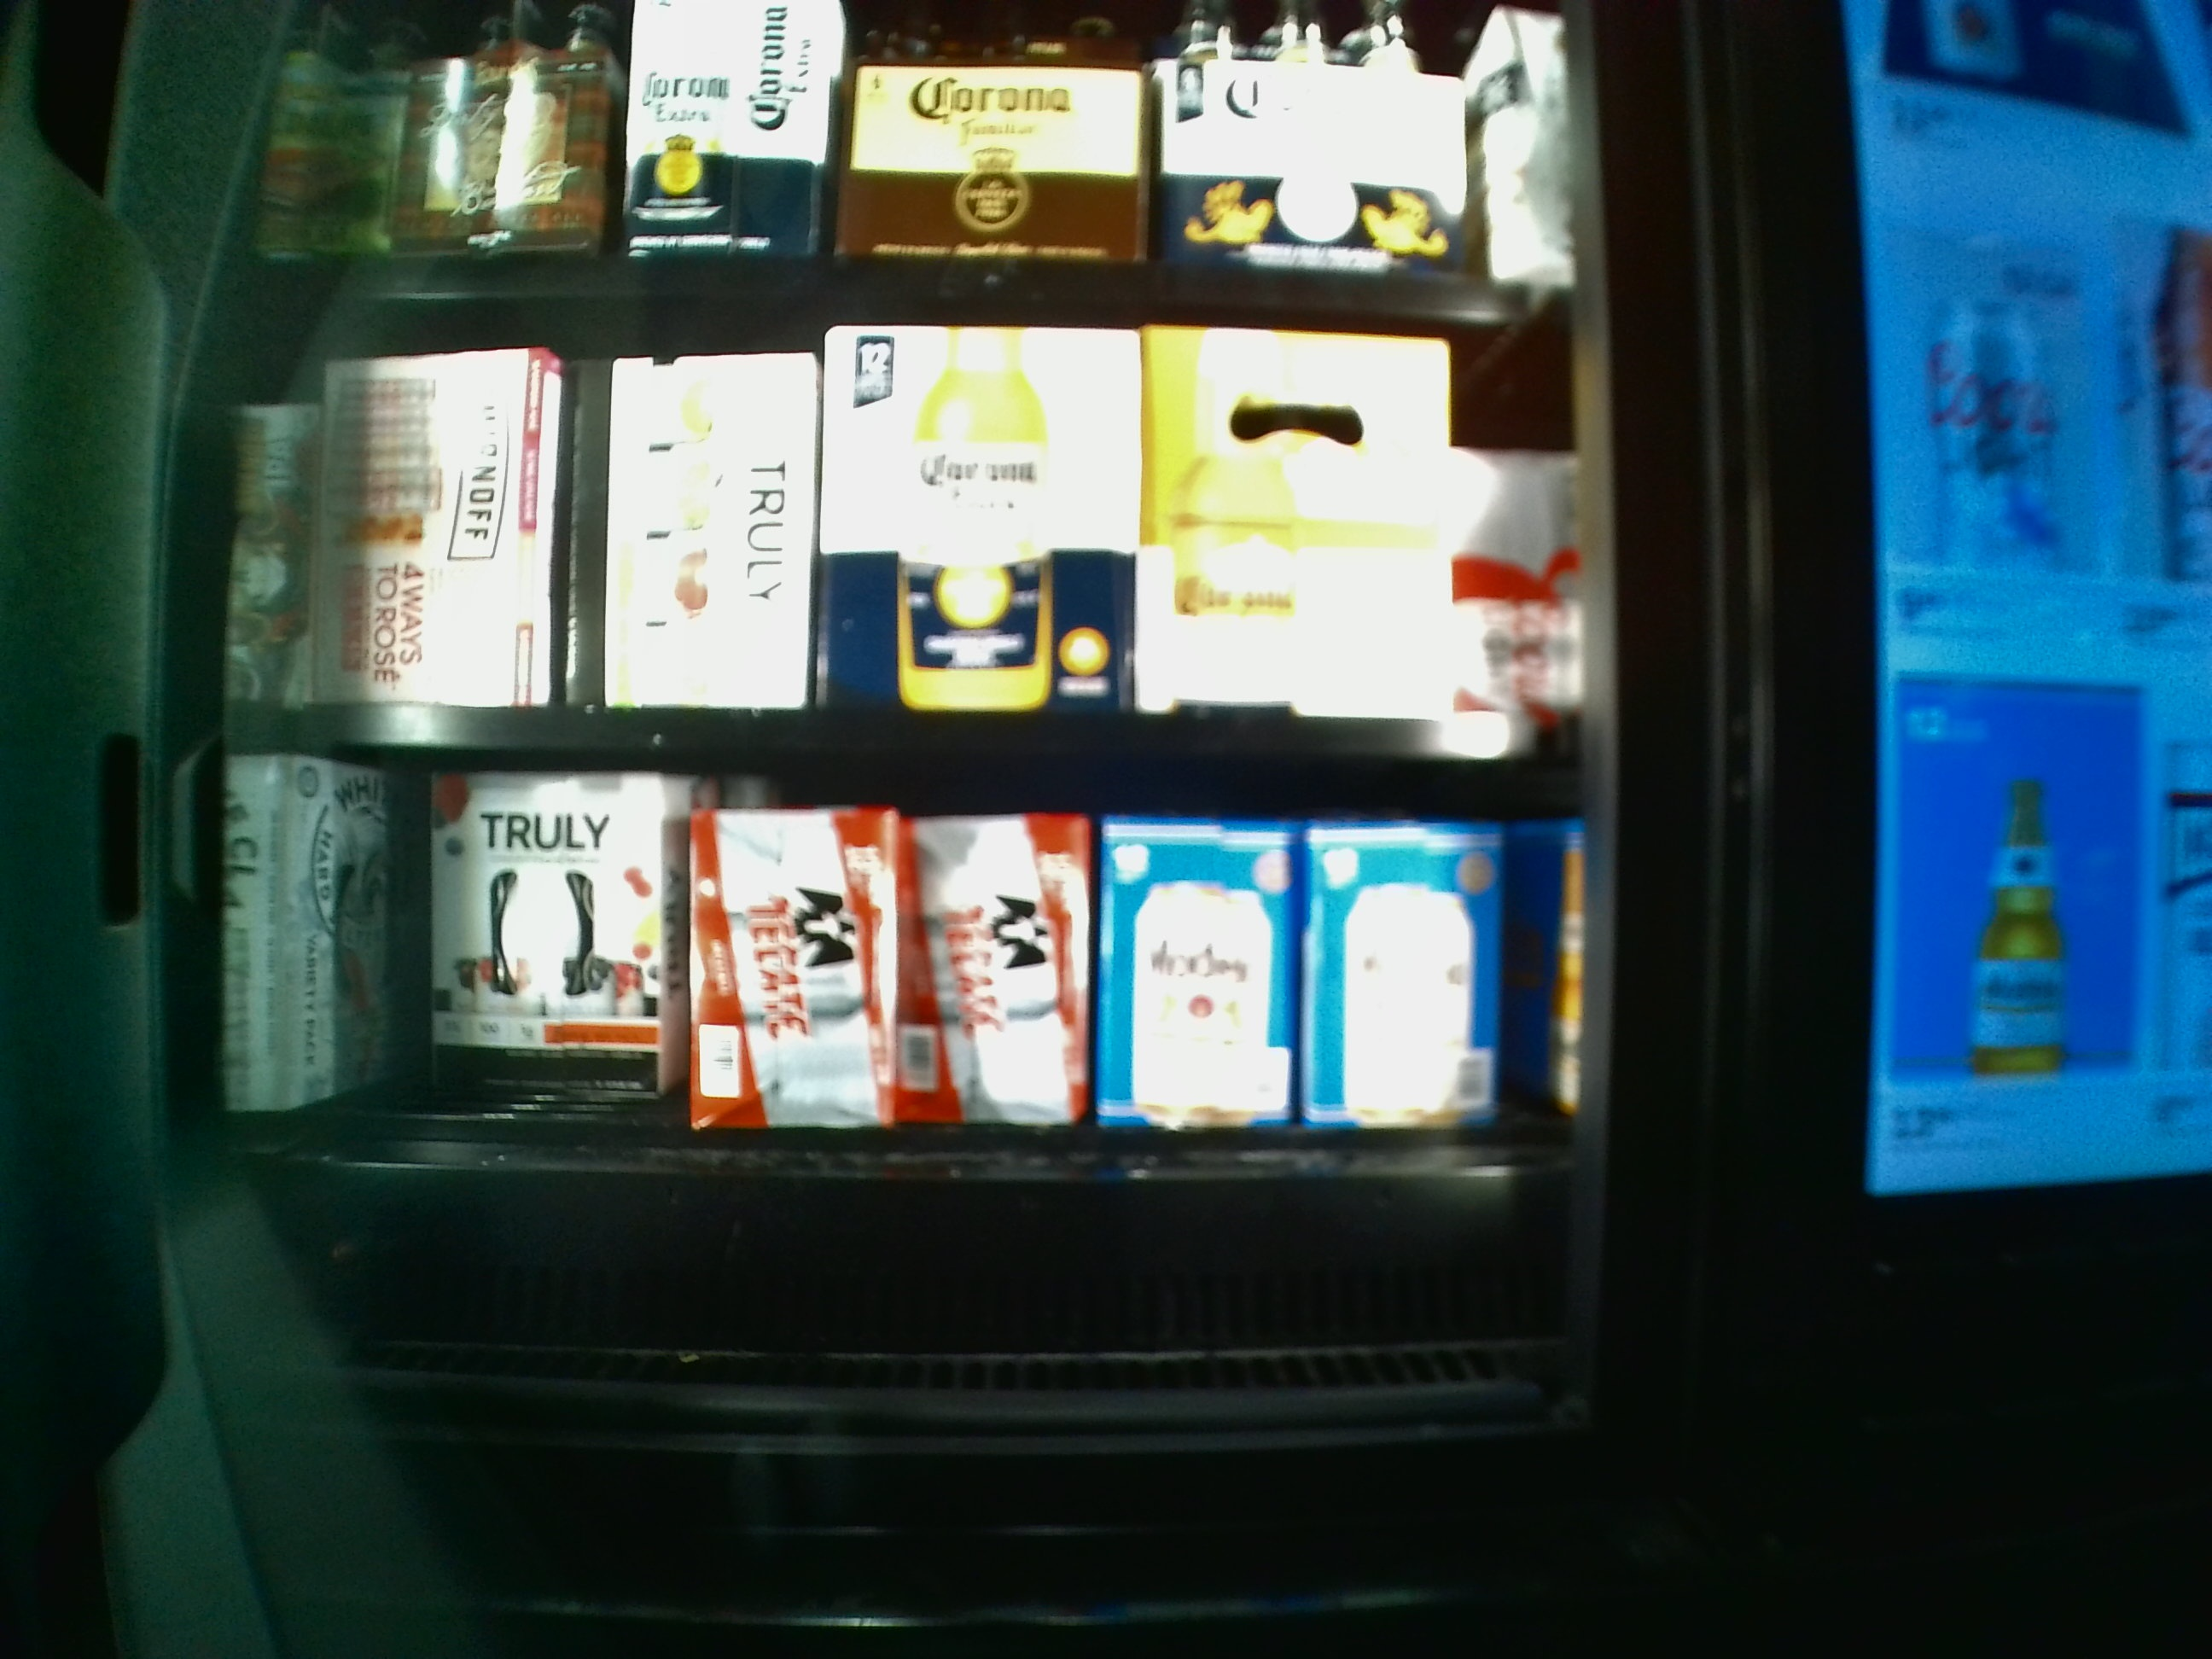shelf: (235, 774, 1578, 1391), (230, 310, 1578, 762)
